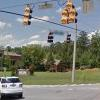Traffic light: (15, 3, 80, 32)
